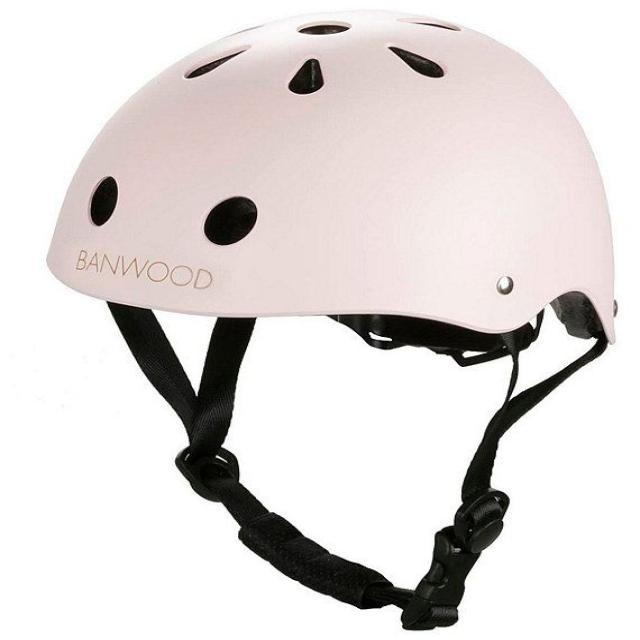Helmet: (44, 8, 620, 347)
